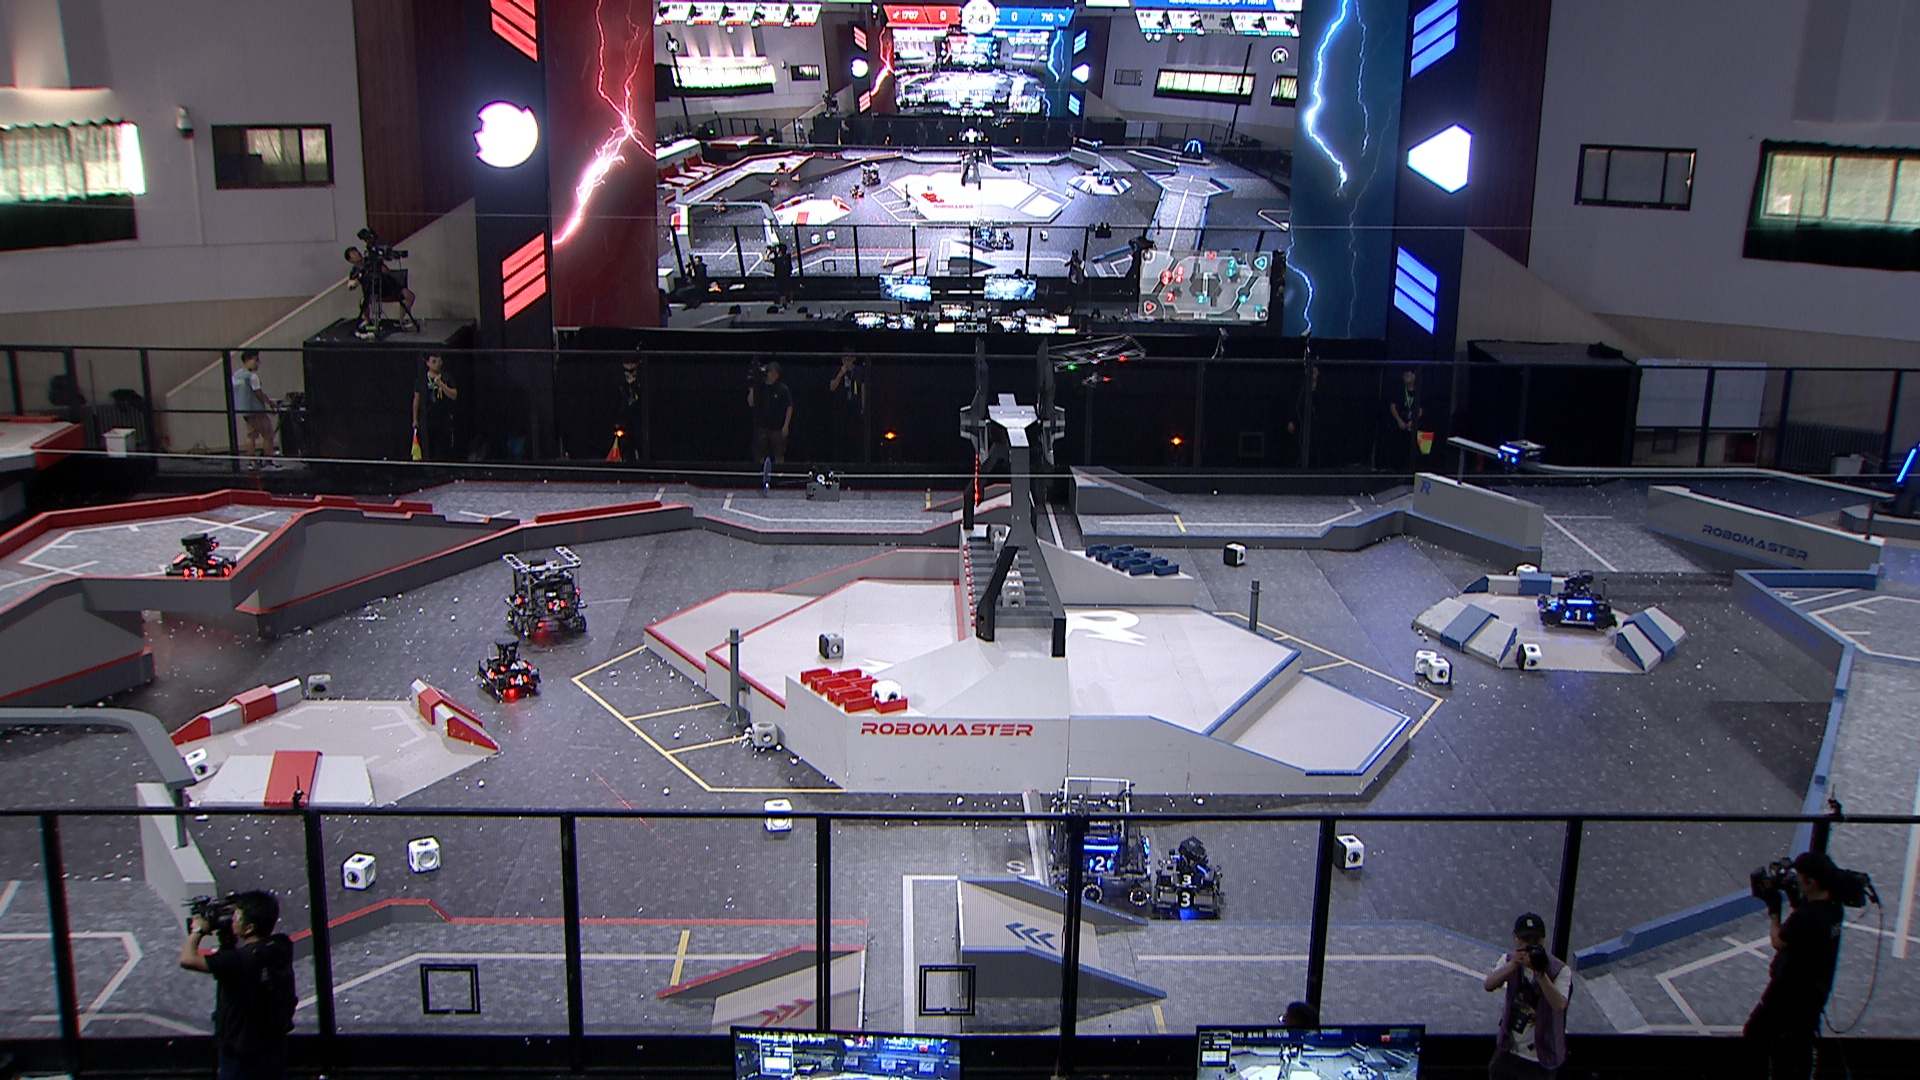armor: (1896, 447, 1917, 485), (1168, 873, 1207, 887), (1088, 855, 1116, 873), (1176, 891, 1200, 909), (1565, 609, 1594, 622), (498, 661, 529, 673), (545, 597, 568, 612), (1495, 451, 1518, 465), (508, 674, 529, 688), (222, 560, 237, 576), (183, 566, 204, 578), (1545, 593, 1563, 608), (206, 553, 225, 564), (510, 593, 526, 608), (484, 669, 498, 680)
base: (1874, 436, 1920, 524)
car: (1044, 773, 1155, 910), (500, 547, 591, 641), (1153, 839, 1224, 920), (1534, 571, 1619, 636), (476, 636, 543, 702), (164, 531, 240, 588)
ignore: (971, 222, 998, 256), (1179, 138, 1205, 162), (860, 161, 882, 189), (992, 229, 1017, 251), (712, 195, 728, 216), (1096, 171, 1116, 187), (851, 183, 865, 200), (774, 161, 793, 174), (1091, 138, 1105, 152)
watcher: (1495, 436, 1542, 485)
